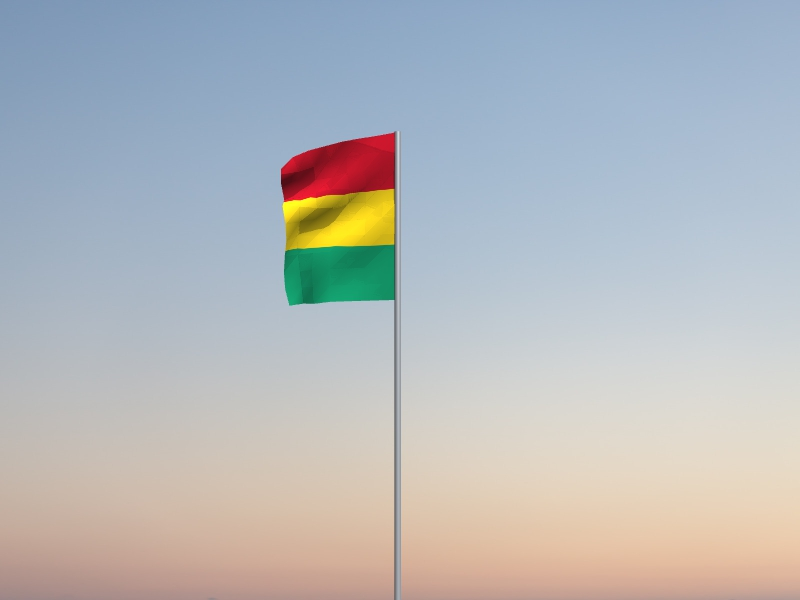gn: (280, 133, 394, 308)
